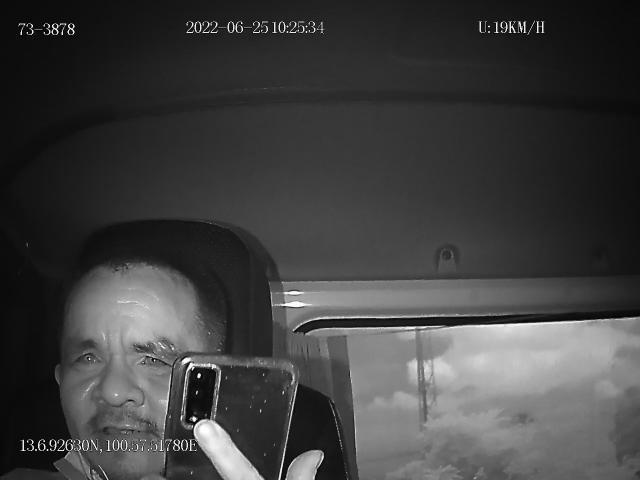PhoneUse: (162, 354, 298, 480)
SafeDriving: (128, 339, 176, 377), (66, 339, 108, 376)
